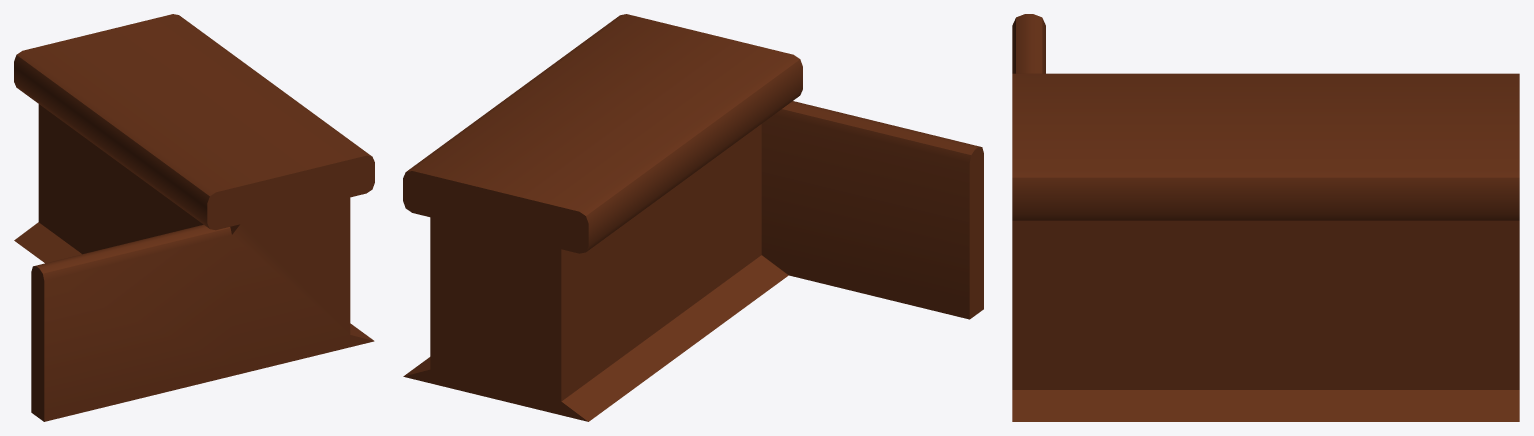
File: barr2.fbx
3 views of the same model, side by side, from view 1: azimuth 30°, elevation 25°; view 2: azimuth 150°, elevation 25°; view 3: azimuth 270°, elevation 25° (orthographic). The views are drawn at different scales.
Visible parts, largest first — view 1: Cube.011; view 2: Cube.011; view 3: Cube.011.
Part boxes in pixels (bbox=[...]): Cube.011: bbox=[14, 14, 374, 421]; Cube.011: bbox=[403, 14, 983, 421]; Cube.011: bbox=[1012, 14, 1519, 421].
Bounding box in the file's own units: 395 × 214 × 400.
